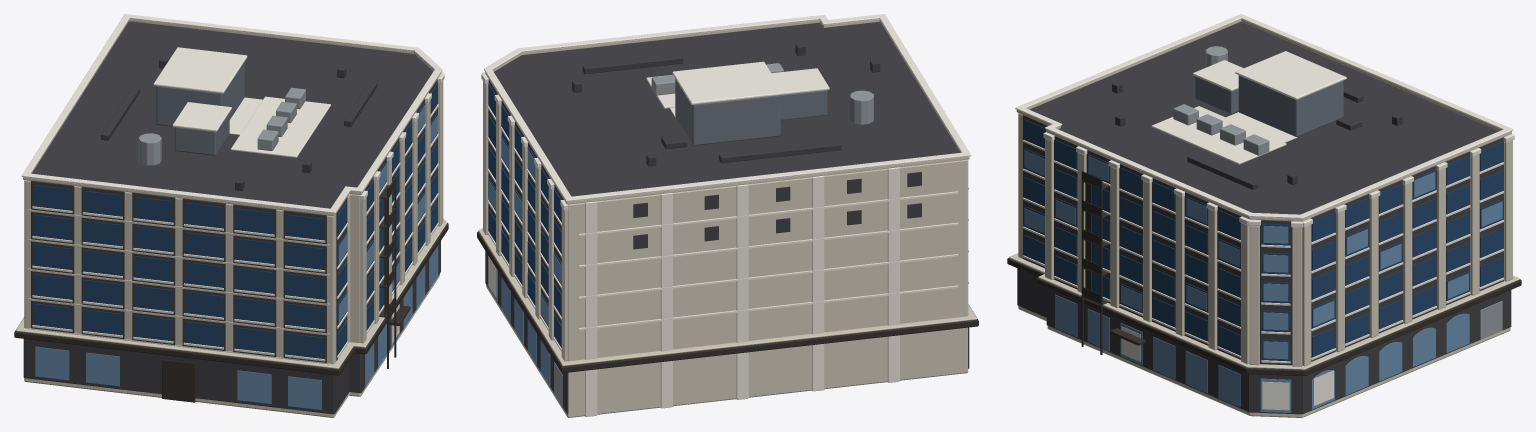
The model's file is 300-brannan.glb.
3 views of the same model, side by side, from view 1: azimuth 30°, elevation 25°; view 2: azimuth 150°, elevation 25°; view 3: azimuth 270°, elevation 25° (orthographic). The views are drawn at different scales.
Parts seen in each view (by area): view 1: body, gf_stan, parapet_cap, belt, pent_cap, mech_pad, parapet, belt_cap, stan_bay5, stan_bay1, stan_bay3, stan_bay4 (+60 smaller); view 2: body, parapet_cap, pent, belt, pent_cap, parapet, belt_cap, party_lis2, party_lis0, party_lis3, party_lis4, party_lis1 (+17 smaller); view 3: body, parapet_cap, pent, gf_second, belt, gf_bran, parapet, pent_cap, belt_cap, mech_pad, cant_bay0, cant_pil1 (+84 smaller).
Part boxes in pixels (bbox=[...]): body: bbox=[24, 21, 439, 417]; gf_stan: bbox=[23, 339, 334, 414]; parapet_cap: bbox=[21, 14, 442, 213]; belt: bbox=[14, 223, 448, 375]; pent_cap: bbox=[153, 47, 247, 93]; mech_pad: bbox=[230, 96, 330, 157]; parapet: bbox=[23, 19, 441, 216]; belt_cap: bbox=[16, 219, 447, 368]; stan_bay5: bbox=[283, 210, 326, 362]; stan_bay1: bbox=[81, 186, 124, 339]; stan_bay3: bbox=[182, 198, 225, 350]; stan_bay4: bbox=[233, 204, 276, 356]; body: bbox=[486, 22, 968, 417]; parapet_cap: bbox=[484, 14, 971, 201]; pent: bbox=[675, 79, 780, 145]; belt: bbox=[477, 231, 978, 372]; pent_cap: bbox=[672, 61, 783, 104]; parapet: bbox=[485, 19, 969, 204]; belt_cap: bbox=[478, 228, 977, 366]; party_lis2: bbox=[736, 184, 748, 399]; party_lis0: bbox=[585, 201, 597, 416]; party_lis3: bbox=[812, 175, 824, 391]; party_lis4: bbox=[887, 167, 899, 382]; party_lis1: bbox=[660, 193, 672, 408]; body: bbox=[1018, 22, 1510, 417]; parapet_cap: bbox=[1015, 14, 1513, 218]; pent: bbox=[1238, 75, 1343, 136]; gf_second: bbox=[1302, 290, 1511, 413]; belt: bbox=[1007, 258, 1521, 376]; gf_bran: bbox=[1046, 288, 1249, 412]; parapet: bbox=[1016, 19, 1511, 221]; pent_cap: bbox=[1235, 51, 1346, 99]; belt_cap: bbox=[1009, 253, 1519, 369]; mech_pad: bbox=[1151, 106, 1286, 164]; cant_bay0: bbox=[1260, 220, 1292, 365]; cant_pil1: bbox=[1292, 227, 1302, 366].
Size of the model in its own units: 47.53 by 25.2 by 49.29.
